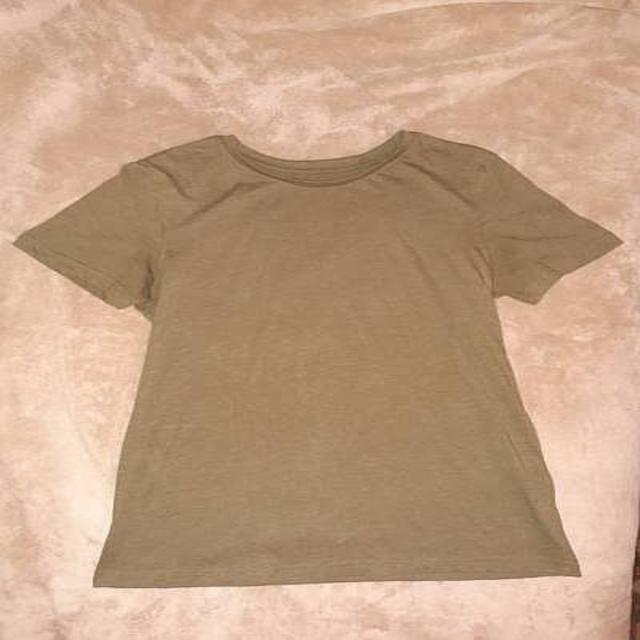T_SHIRT: (7, 121, 640, 591)
